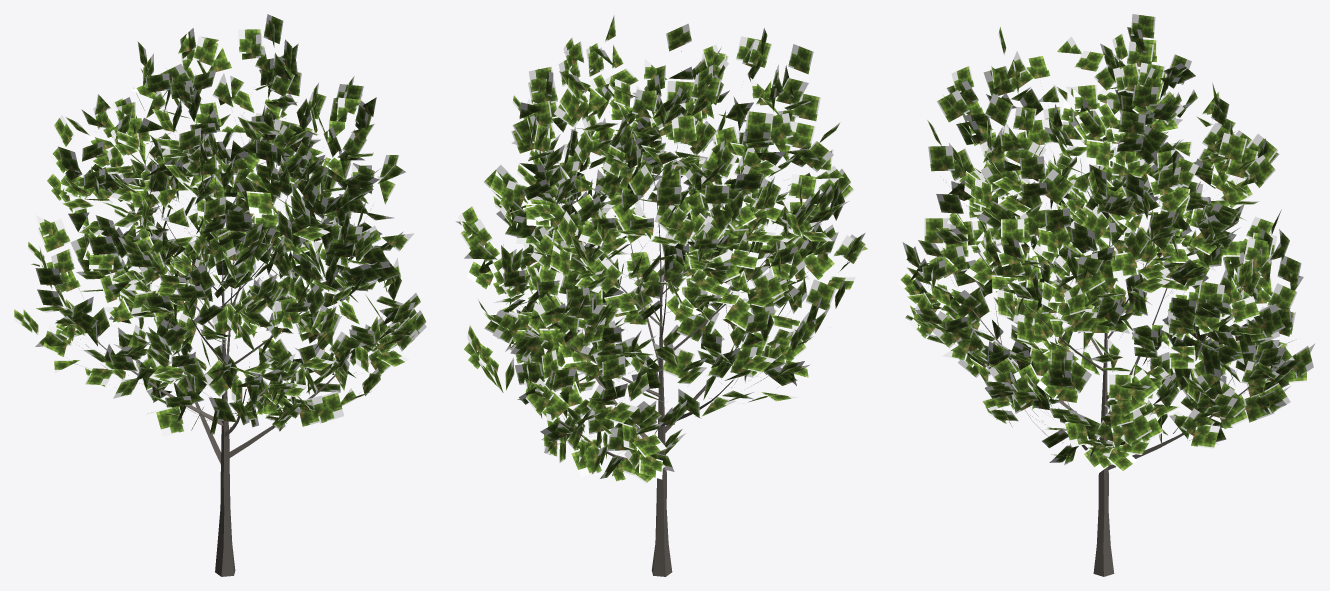
The model's file is tree.glb.
3 renders of one model, left to right at view 1: azimuth 30°, elevation 25°; view 2: azimuth 150°, elevation 25°; view 3: azimuth 270°, elevation 25°, orthographic.
Parts seen in each view (by area): view 1: body; view 2: body; view 3: body.
Boxes of the visible parts, x1,y1,x2,y2 form: body: (14,14,426,576); body: (455,15,868,576); body: (897,14,1315,576).
Size of the model in its own units: 5.8 by 8 by 5.76.
2 materials, 1 textured.
